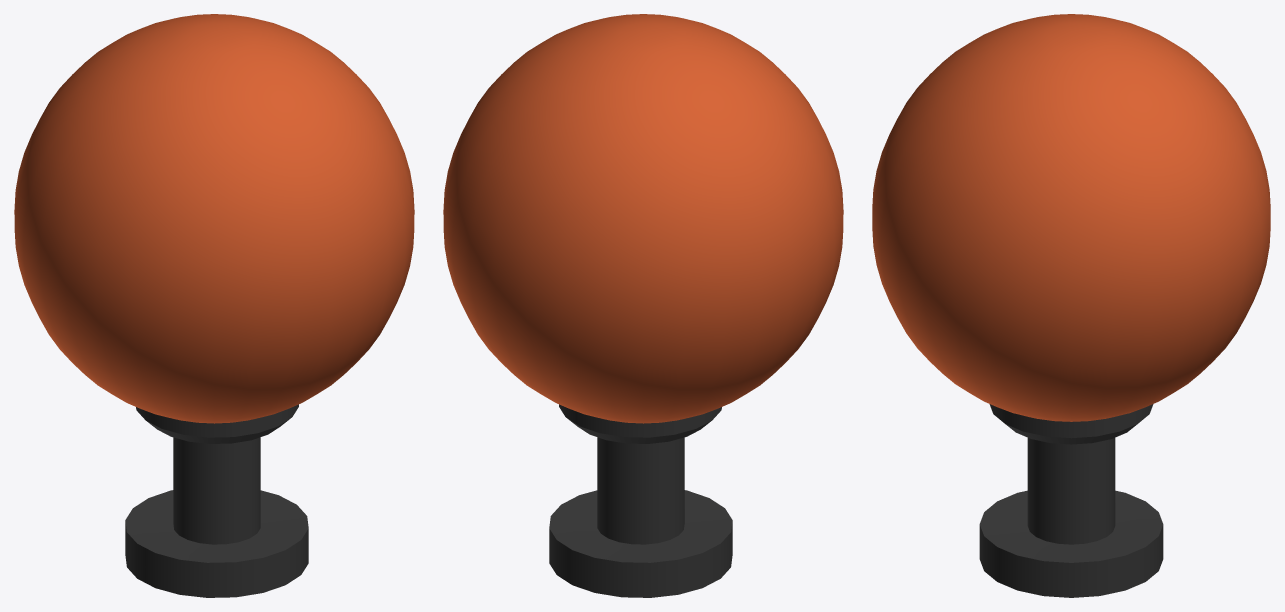
File: SM_Wall_Light_03.FBX
3 renders of one model, left to right at view 1: azimuth 30°, elevation 25°; view 2: azimuth 150°, elevation 25°; view 3: azimuth 270°, elevation 25°, orthographic.
Parts seen in each view (by area): view 1: SM_Wall_Light_03; view 2: SM_Wall_Light_03; view 3: SM_Wall_Light_03.
Boxes of the visible parts, x1,y1,x2,y2 form: SM_Wall_Light_03: (14,14,414,597); SM_Wall_Light_03: (443,14,843,597); SM_Wall_Light_03: (872,14,1270,597).
Size of the model in its own units: 25.96 by 25.82 by 37.61.
